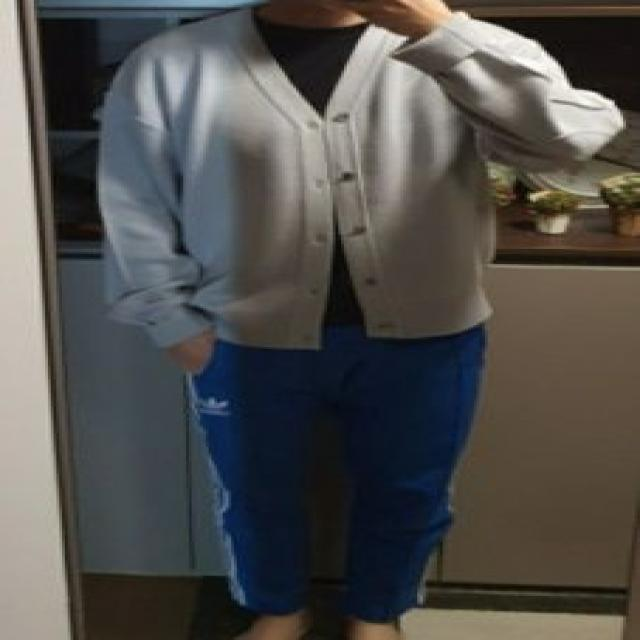cardigan: (94, 7, 627, 350)
trainingpants: (182, 305, 484, 621)
